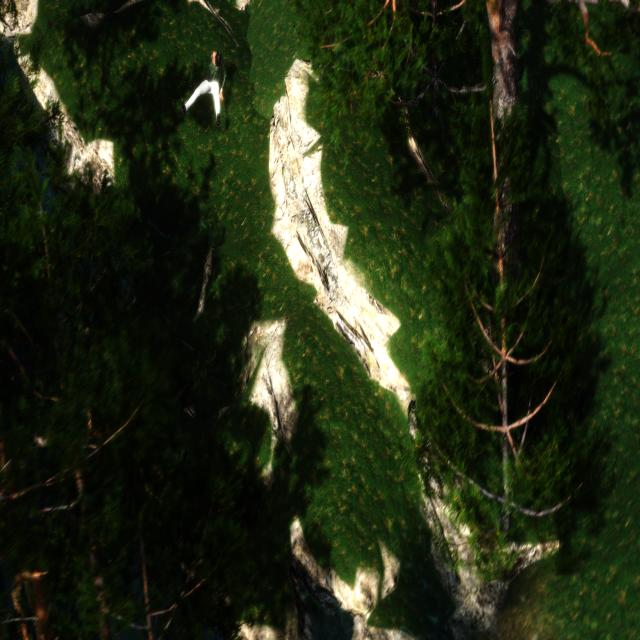Human: (177, 40, 229, 127)
